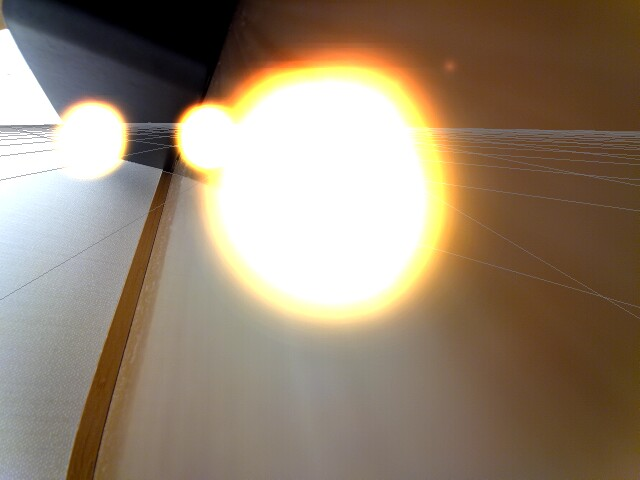firebig: (234, 56, 450, 331)
